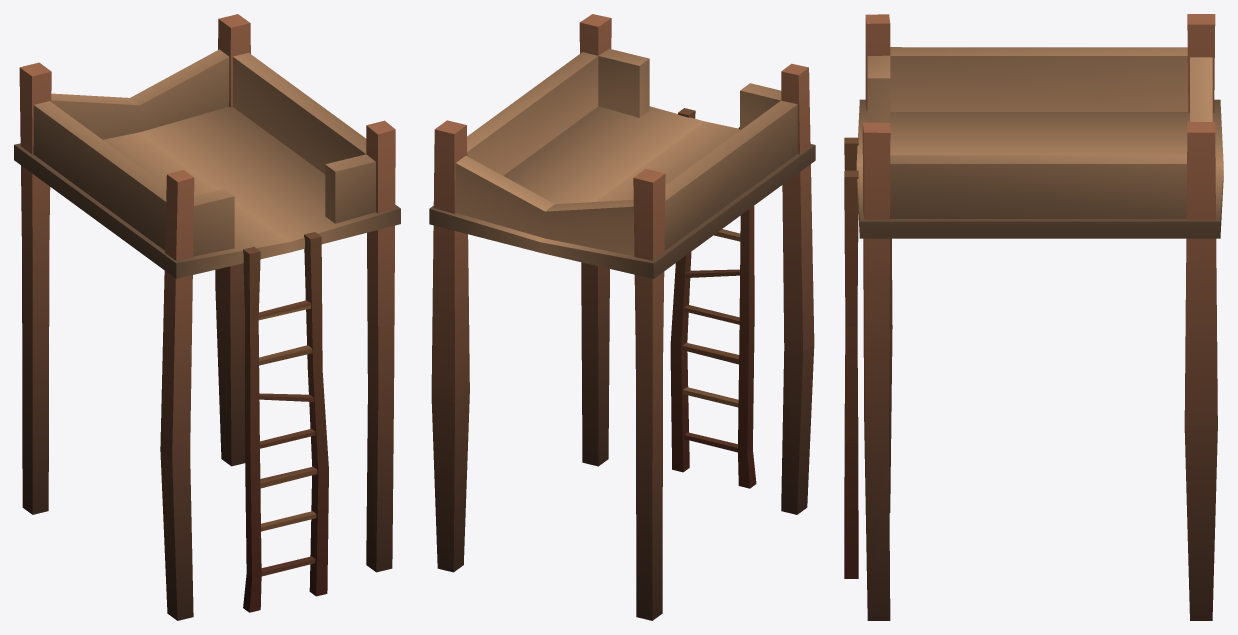
File: Tower_01.fbx
The picture shows the model from 3 angles, left to right: view 1: azimuth 30°, elevation 25°; view 2: azimuth 150°, elevation 25°; view 3: azimuth 270°, elevation 25°; orthographic projection. The views are drawn at different scales.
Parts seen in each view (by area): view 1: Tower_01; view 2: Tower_01; view 3: Tower_01.
Boxes of the visible parts, <box> form: Tower_01: <box>14,14,400,620</box>; Tower_01: <box>429,14,815,620</box>; Tower_01: <box>844,14,1223,620</box>.
Bounding box in the file's own units: 150 × 278 × 195.
Materials: 1 (1 with a texture image).
